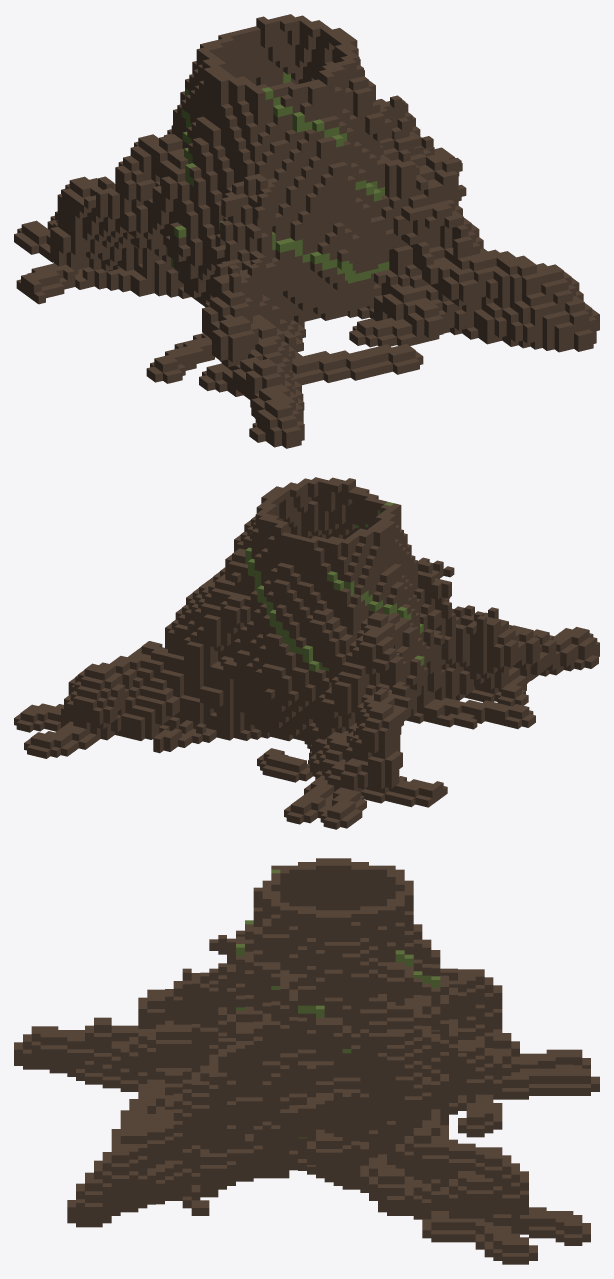
The model's file is good-0.obj.
The picture shows the model from 3 angles, top to bottom: view 1: azimuth 30°, elevation 25°; view 2: azimuth 150°, elevation 25°; view 3: azimuth 270°, elevation 25°; orthographic projection. The views are drawn at different scales.
Bounding box in the file's own units: 6 × 3.1 × 6.6.
1 material, 1 textured.
